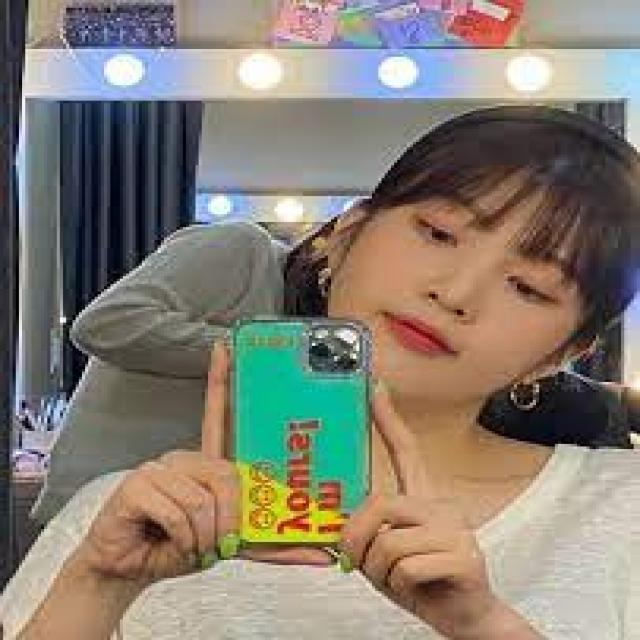Phone: (229, 316, 374, 546)
